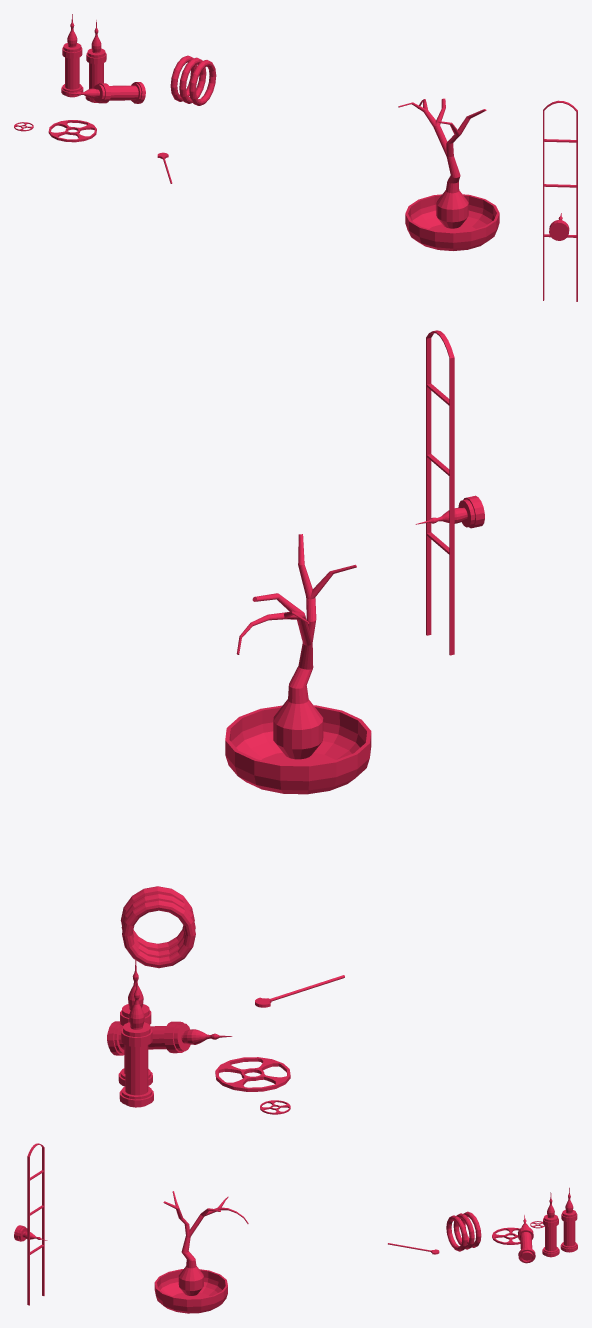
Rendered from tralhasMesa_Mdl_Dec_Z2.fbx.
The picture shows the model from 3 angles, top to bottom: view 1: azimuth 30°, elevation 25°; view 2: azimuth 150°, elevation 25°; view 3: azimuth 270°, elevation 25°; orthographic projection. The views are drawn at different scales.
Visible parts, largest first — view 1: tralhas1; view 2: tralhas1; view 3: tralhas1.
Part boxes in pixels (x1,y1,x2,y2): tralhas1: (14, 14, 577, 301); tralhas1: (107, 330, 484, 1114); tralhas1: (14, 1143, 577, 1313).
Size of the model in its own units: 149 by 115 by 363.
